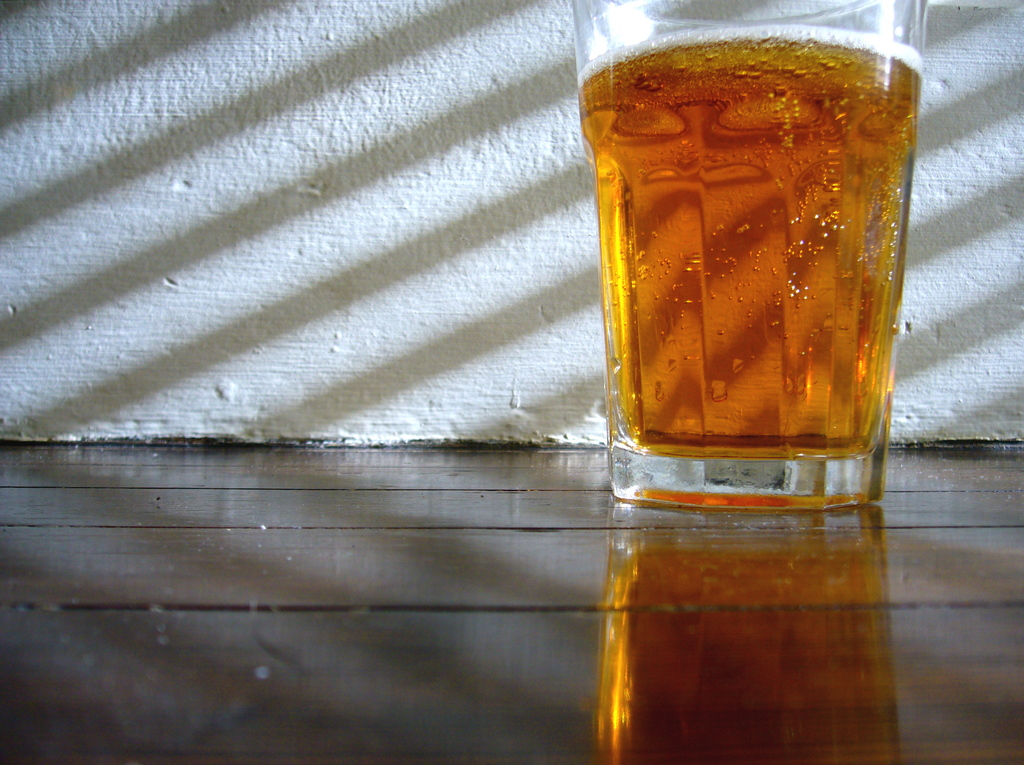Beer: (576, 18, 922, 457)
